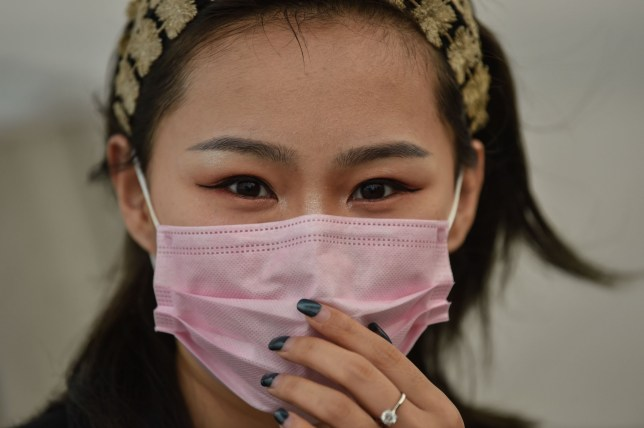surgical: (145, 210, 458, 410)
